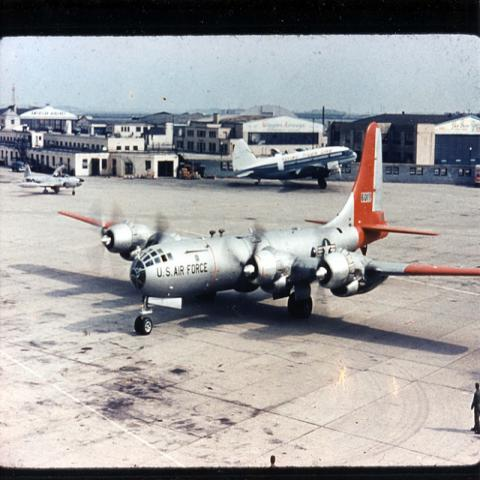car: (11, 162, 25, 172)
